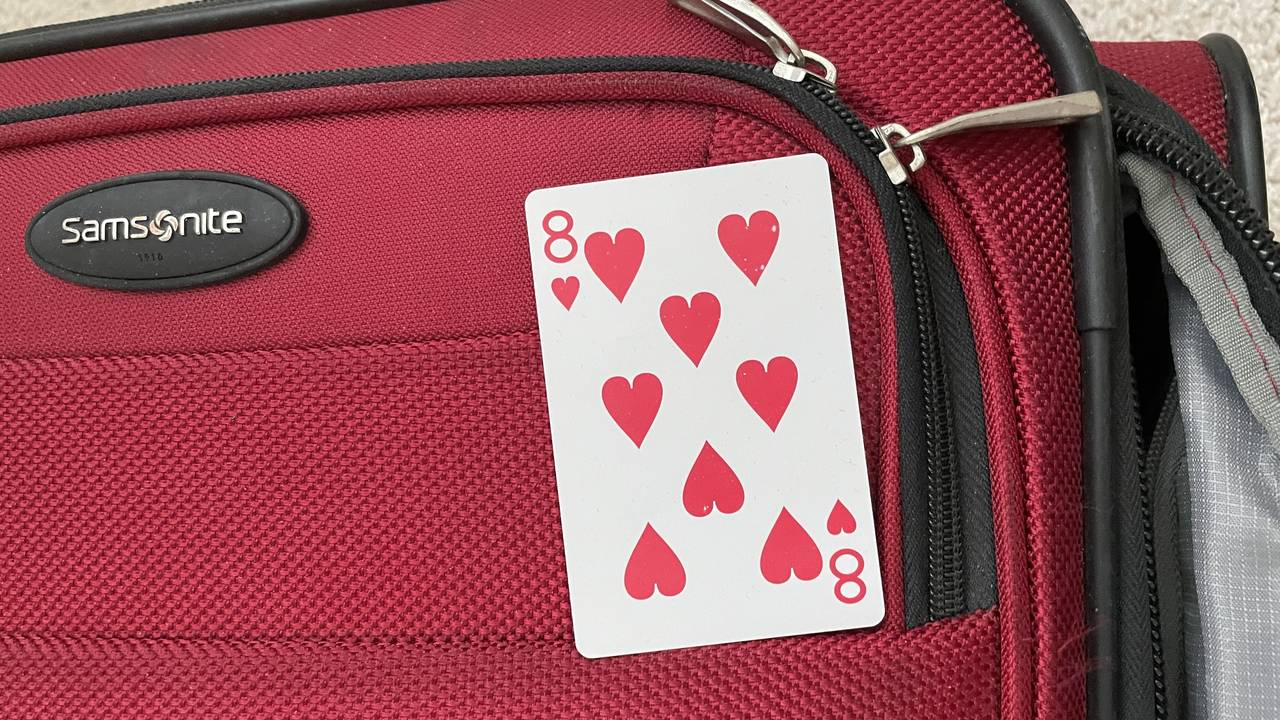eight: (535, 210, 870, 612)
